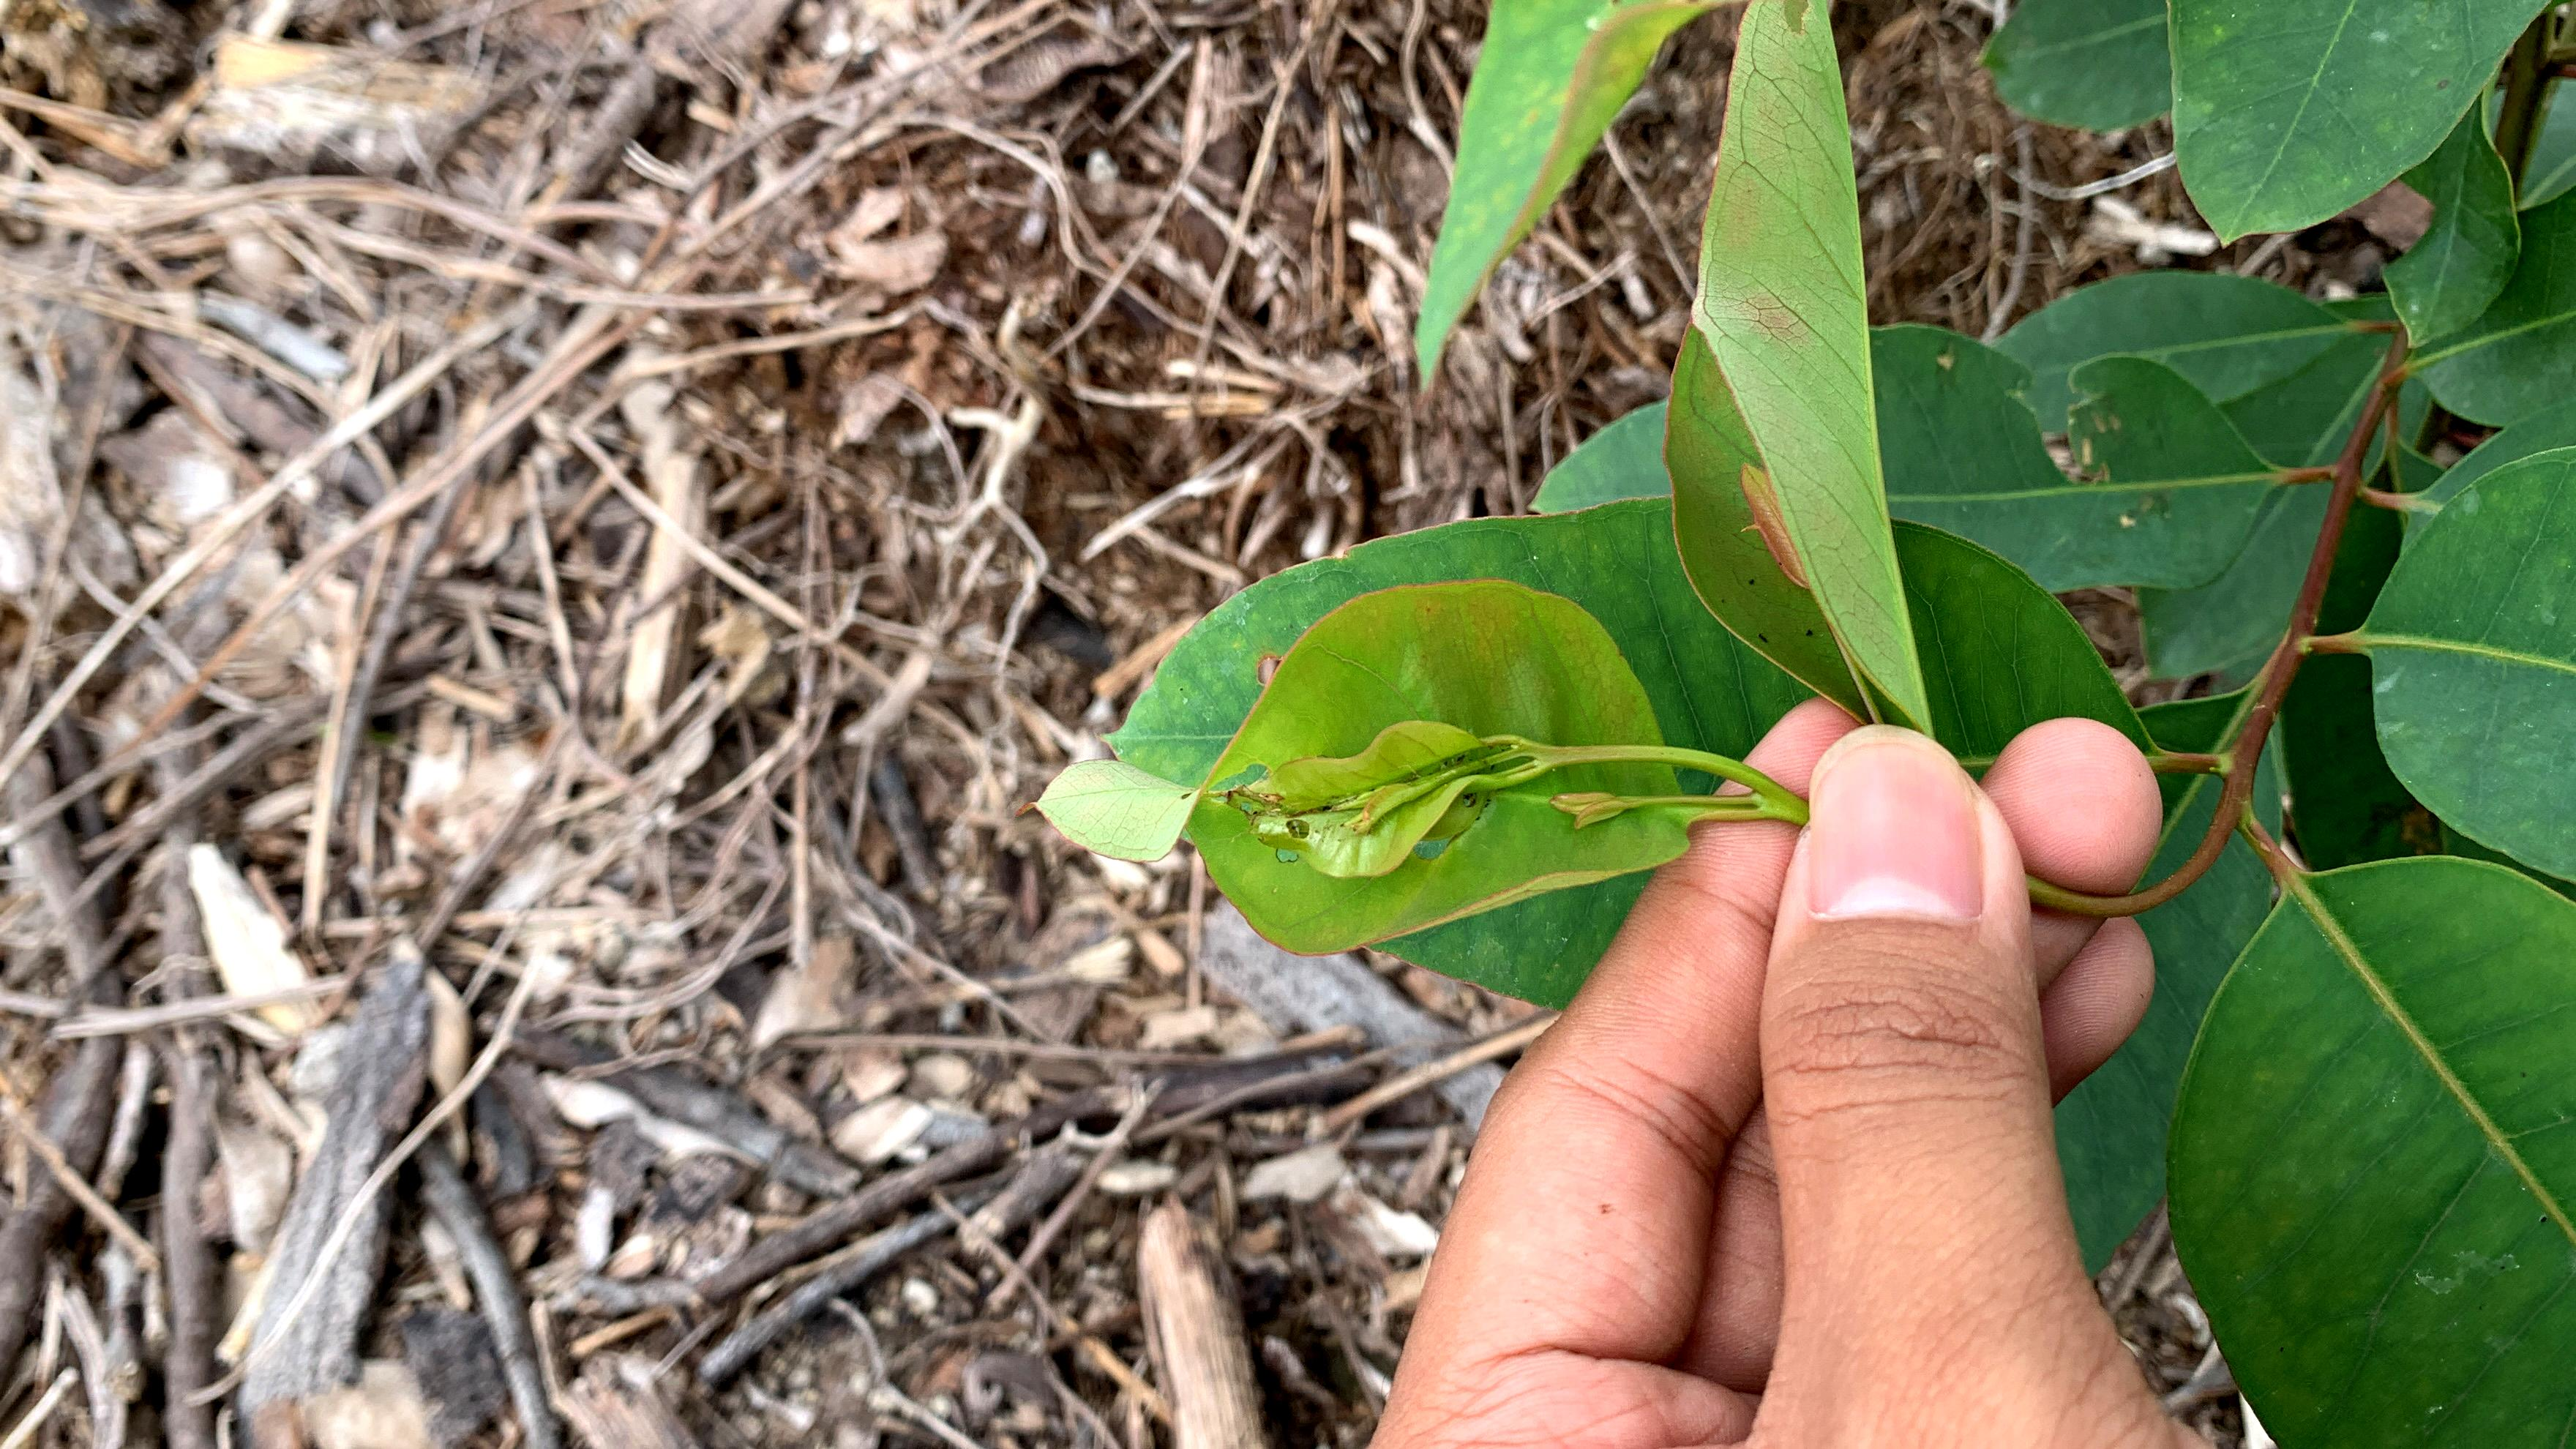Leaf Roller - Leaf: (1041, 568, 1735, 977)
